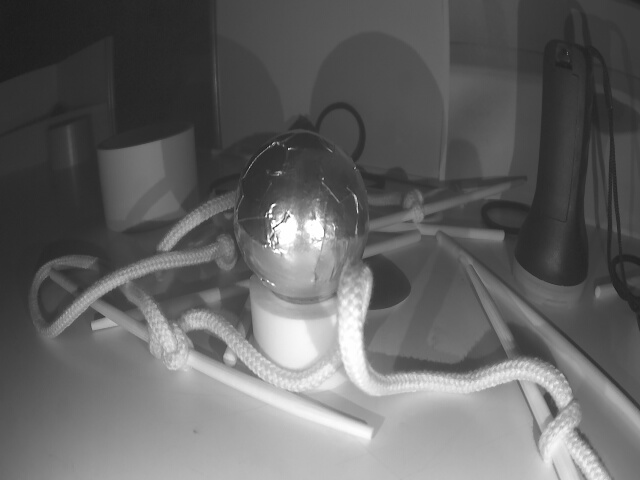Live: (237, 123, 373, 303)
Point: (0, 102, 103, 181)
